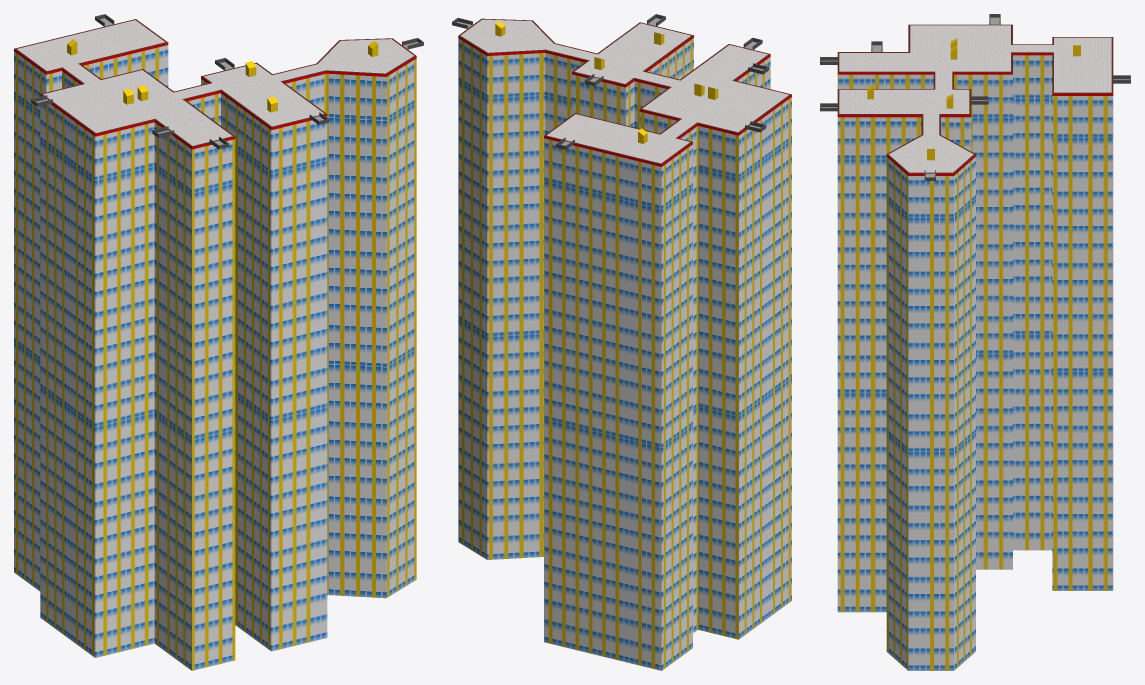
File: arena.fbx
3 renders of one model, left to right at view 1: azimuth 30°, elevation 25°; view 2: azimuth 150°, elevation 25°; view 3: azimuth 270°, elevation 25°, orthographic. The views are drawn at different scales.
Parts seen in each view (by area): view 1: isl_1; view 2: isl_1; view 3: isl_1.
Boxes of the visible parts, x1,y1,x2,y2 form: isl_1: (14, 19, 416, 670); isl_1: (458, 18, 791, 670); isl_1: (837, 24, 1113, 670).
Bounding box in the file's own units: 857 × 1243 × 688.
6 materials, 2 textured.
